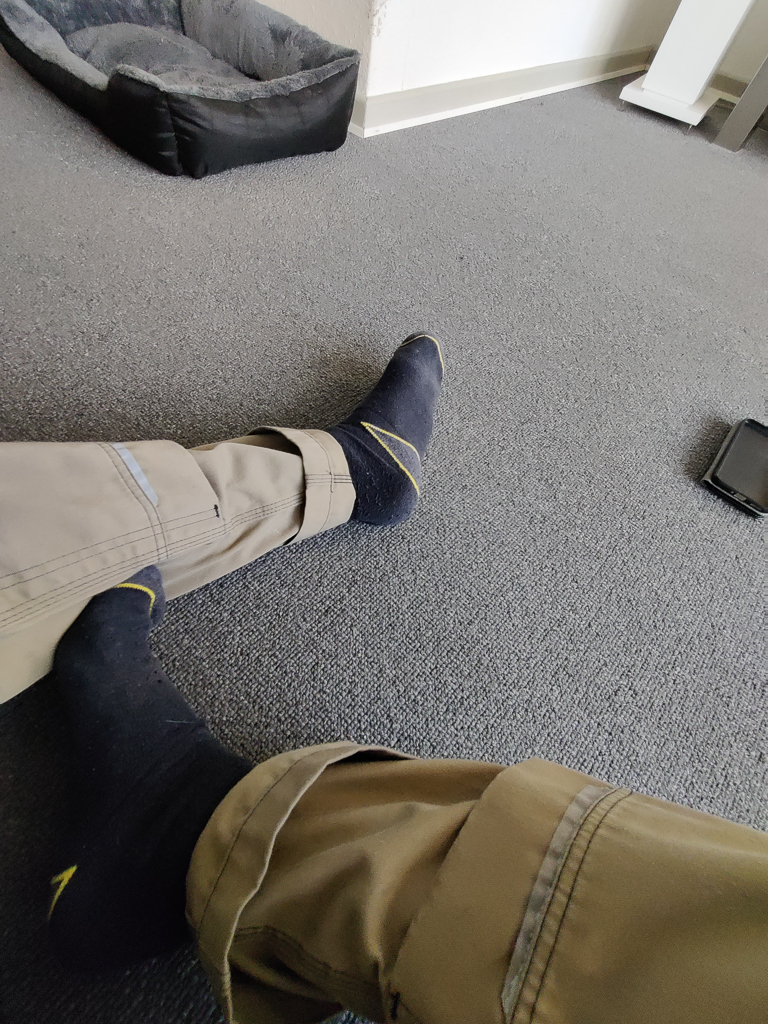Humanoid: (0, 324, 768, 1024)
